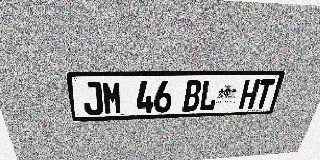4: (136, 81, 155, 113)
6: (154, 81, 173, 112)
B: (182, 80, 203, 111)
H: (238, 79, 261, 109)
J: (81, 82, 104, 115)
L: (199, 80, 220, 111)
M: (102, 81, 122, 115)
T: (253, 79, 276, 108)
